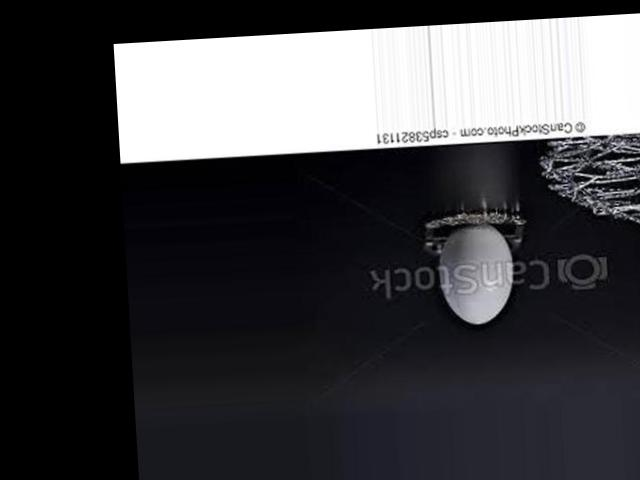egg: (436, 221, 516, 325)
